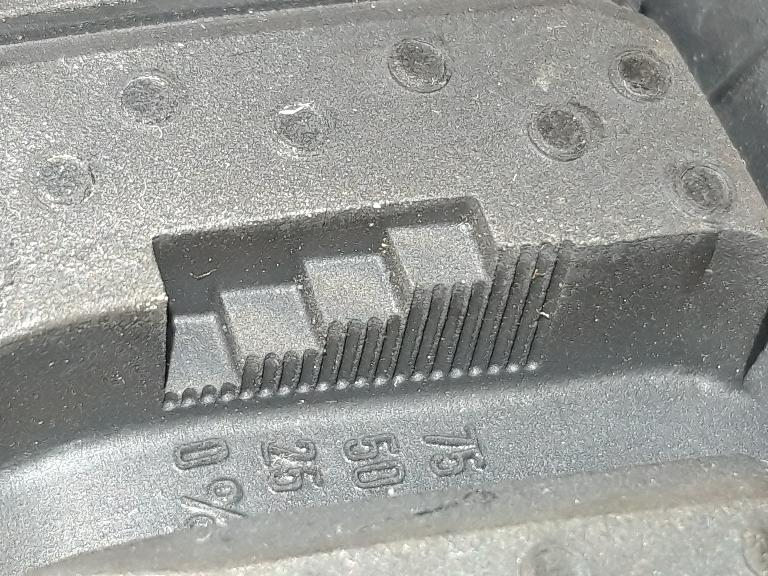temoin:100: (150, 193, 581, 414)
